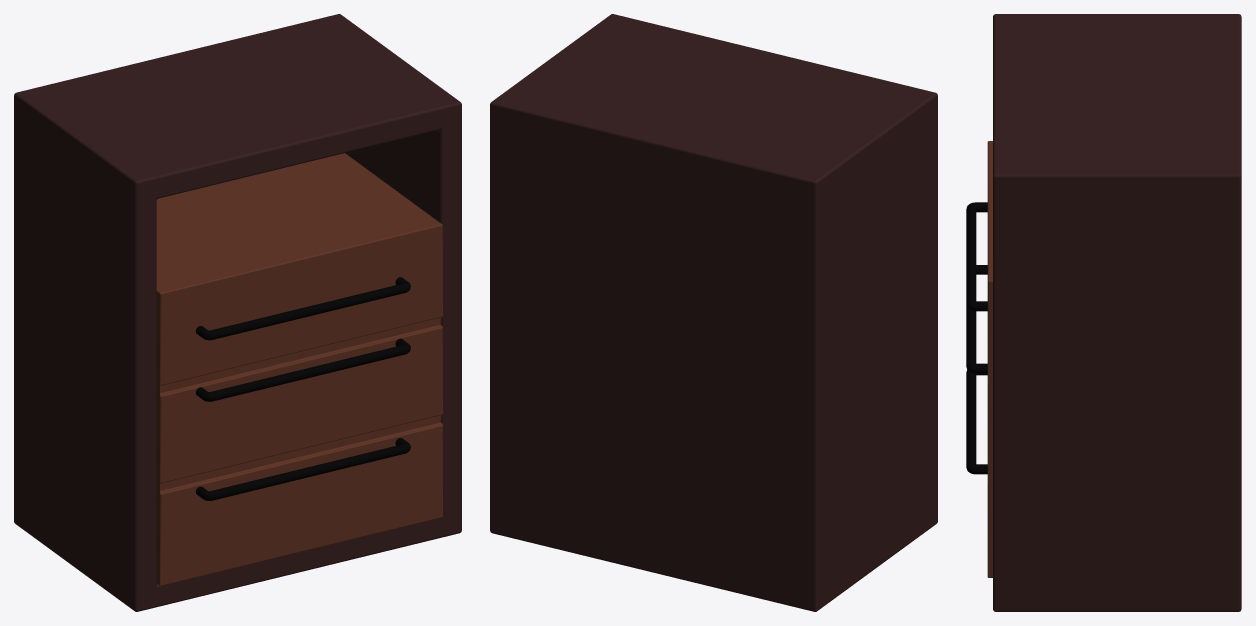
The model's file is Mesa de luz Fix.fbx.
The picture shows the model from 3 angles, left to right: view 1: azimuth 30°, elevation 25°; view 2: azimuth 150°, elevation 25°; view 3: azimuth 270°, elevation 25°; orthographic projection.
Parts seen in each view (by area): view 1: Madera superior; view 2: Madera superior; view 3: Madera superior.
Part boxes in pixels (box(x1,y1,x2,y2)): Madera superior: box(14, 14, 461, 611); Madera superior: box(490, 14, 937, 611); Madera superior: box(966, 14, 1241, 611).
Bounding box in the file's own units: 54 × 68 × 38.72.
